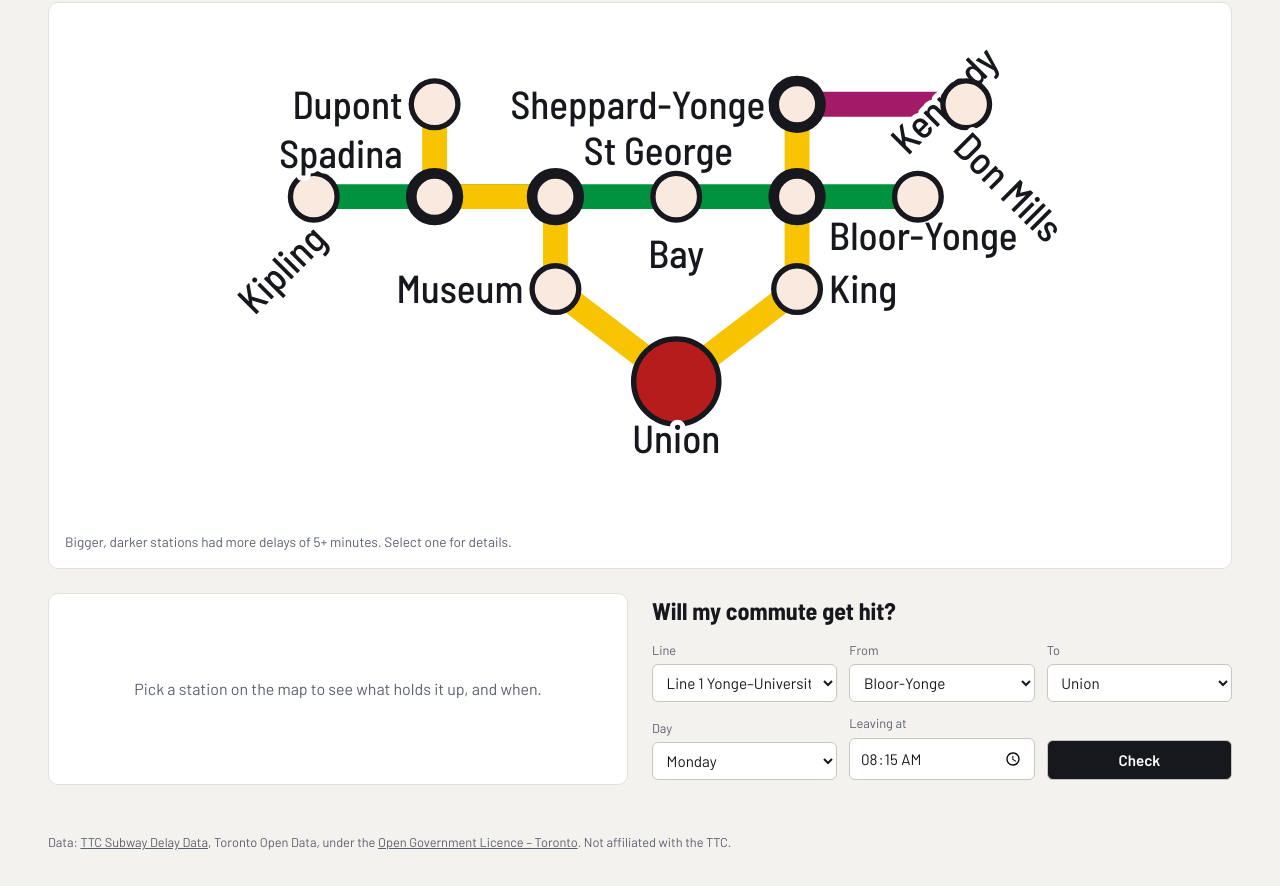
Test case: App › tells the user when the commute check fails
(page scrolled)
Click the button "Check" at (1139, 760), box [1047,740,1232,780]
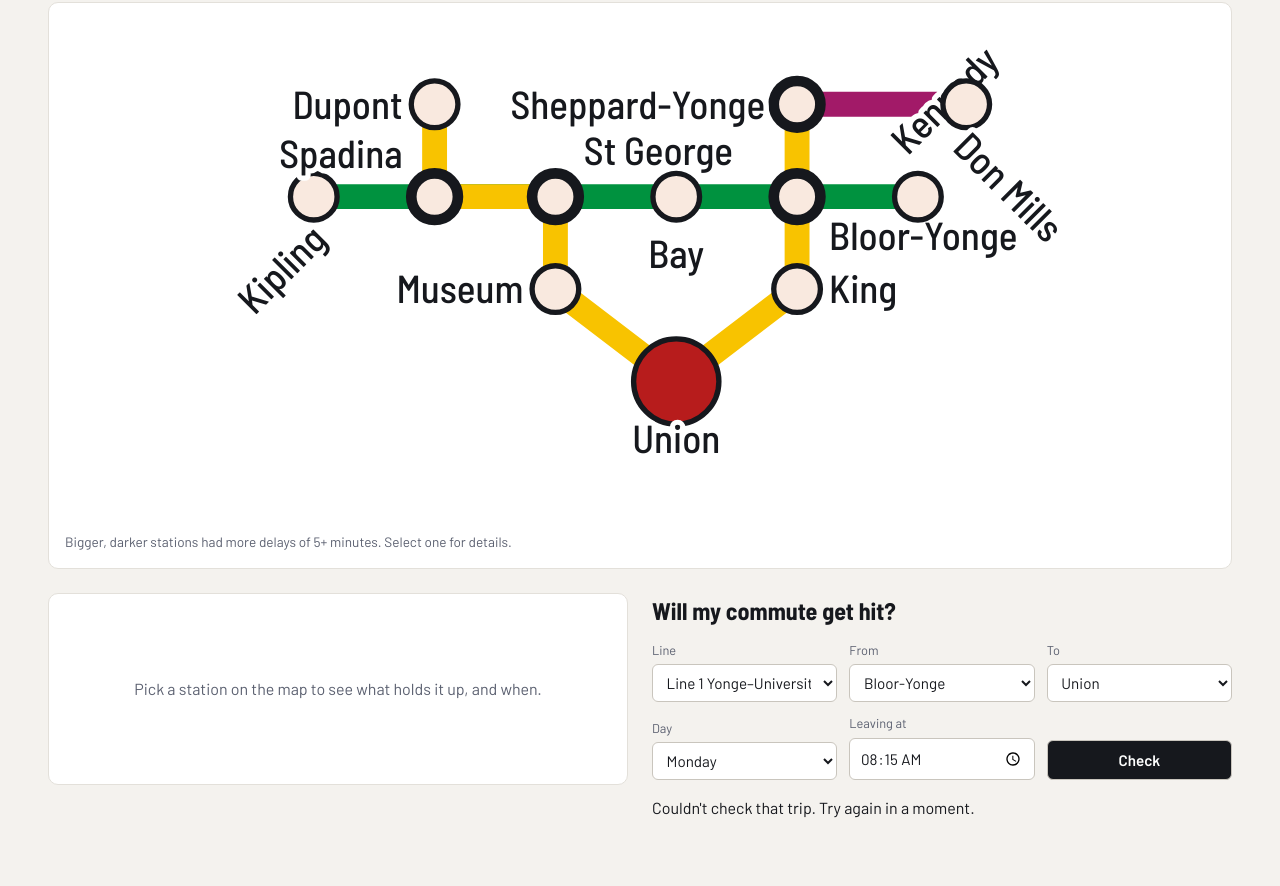
Result: the text "Couldn't check that trip. Try again in a moment." is shown at [652,798,975,818]
